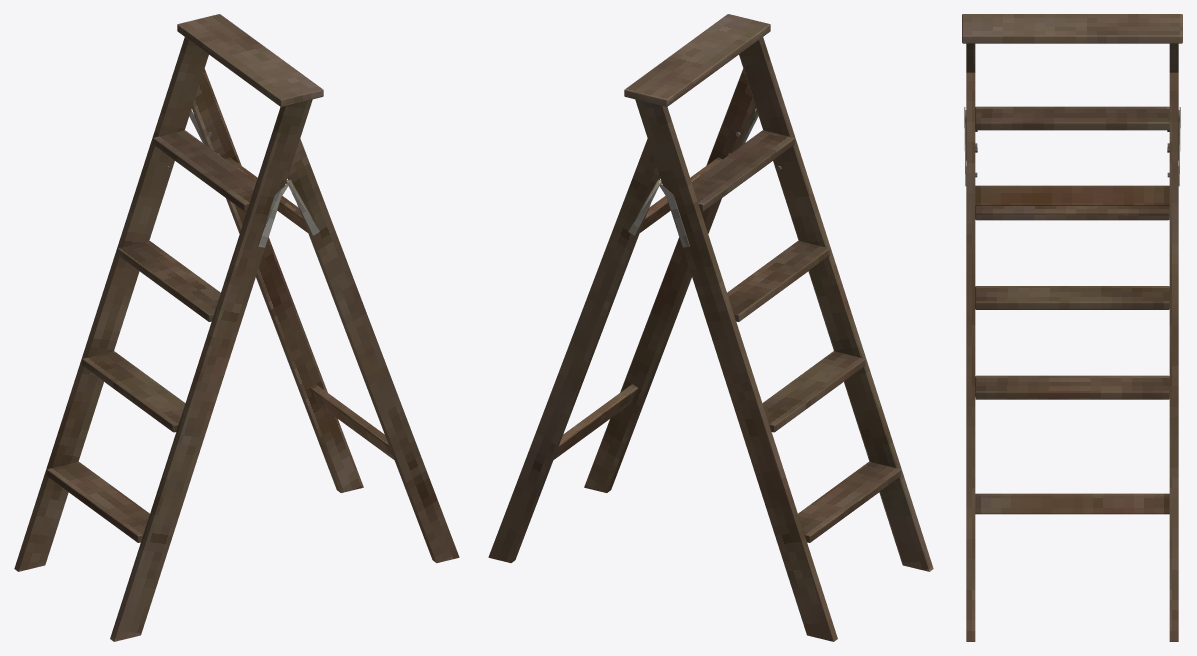
The model's file is wooden_ladder.glb.
3 views of the same model, side by side, from view 1: azimuth 30°, elevation 25°; view 2: azimuth 150°, elevation 25°; view 3: azimuth 270°, elevation 25° (orthographic). The views are drawn at different scales.
Parts seen in each view (by area): view 1: wooden_ladder_steps, wooden_ladder_supports; view 2: wooden_ladder_steps, wooden_ladder_supports; view 3: wooden_ladder_steps, wooden_ladder_supports.
Part boxes in pixels (left/top/right/bottom): wooden_ladder_steps: left=14, top=14, right=323, bottom=641; wooden_ladder_supports: left=189, top=68, right=459, bottom=562; wooden_ladder_steps: left=624, top=14, right=933, bottom=641; wooden_ladder_supports: left=488, top=68, right=758, bottom=562; wooden_ladder_steps: left=962, top=14, right=1182, bottom=399; wooden_ladder_supports: left=964, top=72, right=1180, bottom=641.
Size of the model in its own units: 0.9591 by 1.33 by 0.5.
Materials: 1 (1 with a texture image).
